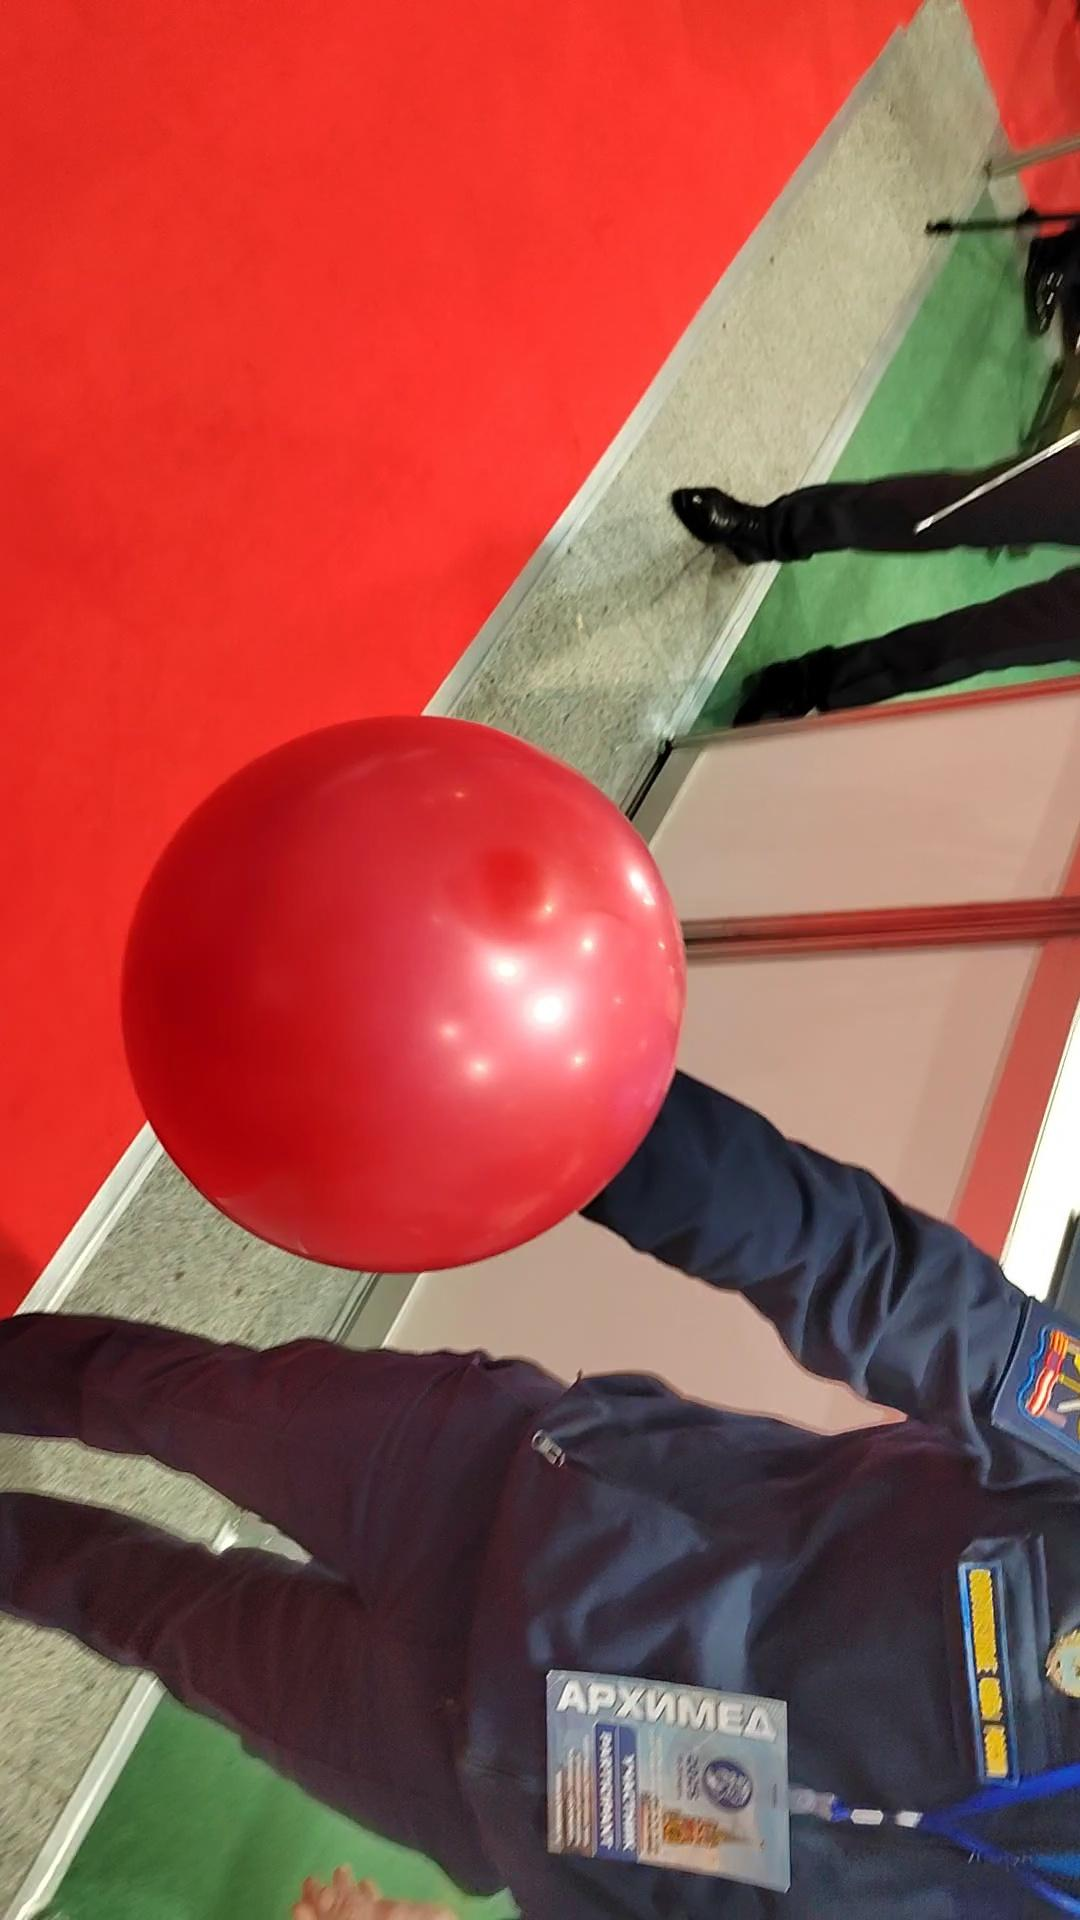red: (116, 711, 688, 1275)
